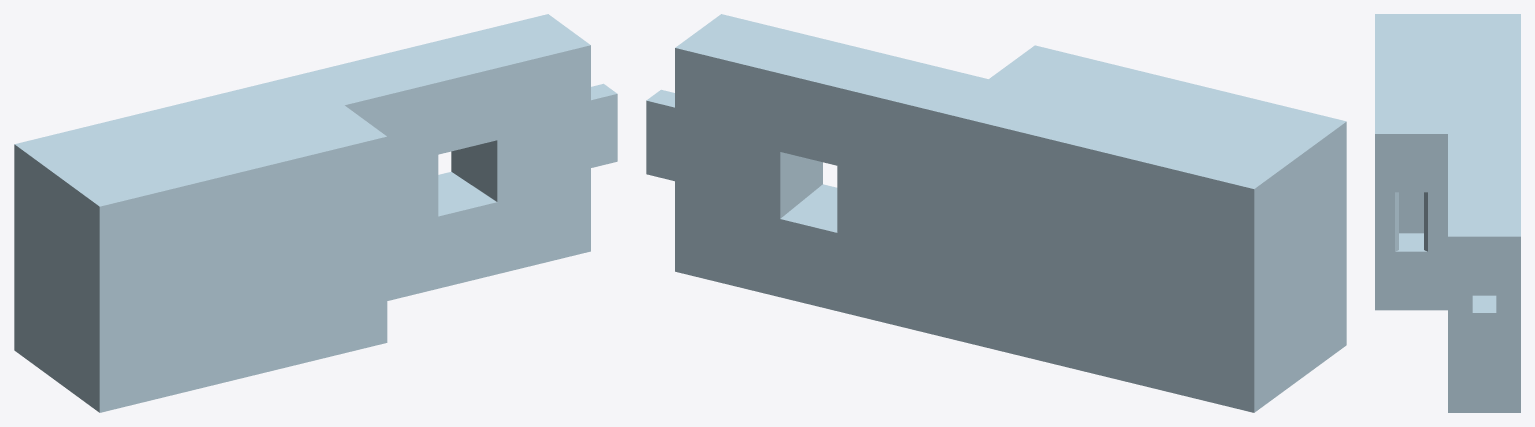
Rendered from Assembly 1 - Member A (lower lap).gltf.
The picture shows the model from 3 angles, left to right: view 1: azimuth 30°, elevation 25°; view 2: azimuth 150°, elevation 25°; view 3: azimuth 270°, elevation 25°; orthographic projection. The views are drawn at different scales.
Visible parts, largest first — view 1: Member A (lower lap); view 2: Member A (lower lap); view 3: Member A (lower lap).
Boxes of the visible parts, <box> form: Member A (lower lap): <box>14,14,617,412</box>; Member A (lower lap): <box>646,14,1346,412</box>; Member A (lower lap): <box>1375,14,1520,412</box>.
Bounding box in the file's own units: 0.07 × 0.024 × 0.018.
